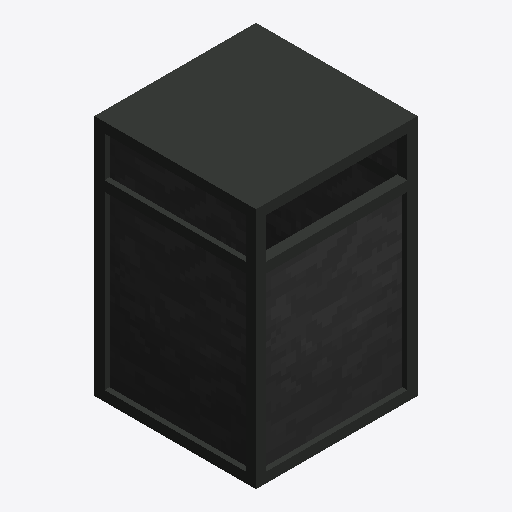
Isometric view (azimuth 45°, elevation 35.3°) of a Minecraft model made of 16 cuboids, textured from the same repository.
Parts seen in each view (by area): binnenkant (×3), bovenkant, hoek (×3), lijnen (×2), Zijkant, bodem.
Boxes of the visible parts, x1=… form: binnenkant (×3): x1=110, y1=163, x2=401, y2=465; bovenkant: x1=94, y1=23, x2=417, y2=220; hoek (×3): x1=94, y1=128, x2=417, y2=476; lijnen (×2): x1=105, y1=174, x2=406, y2=272; Zijkant: x1=110, y1=137, x2=245, y2=255; bodem: x1=94, y1=384, x2=417, y2=488.
Size of the model in its own units: 16 by 24 by 16.